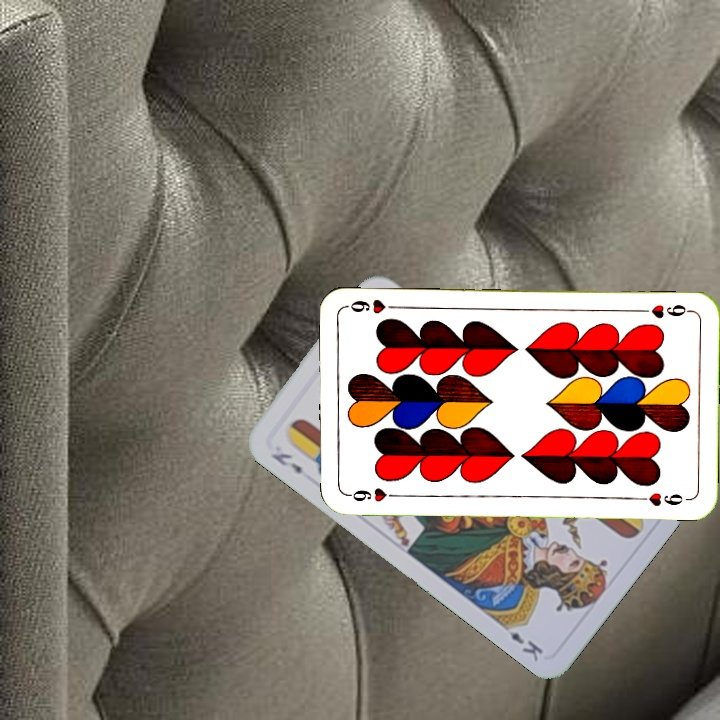EK: (267, 448, 305, 477)
H9: (635, 300, 694, 321), (342, 484, 401, 505)
